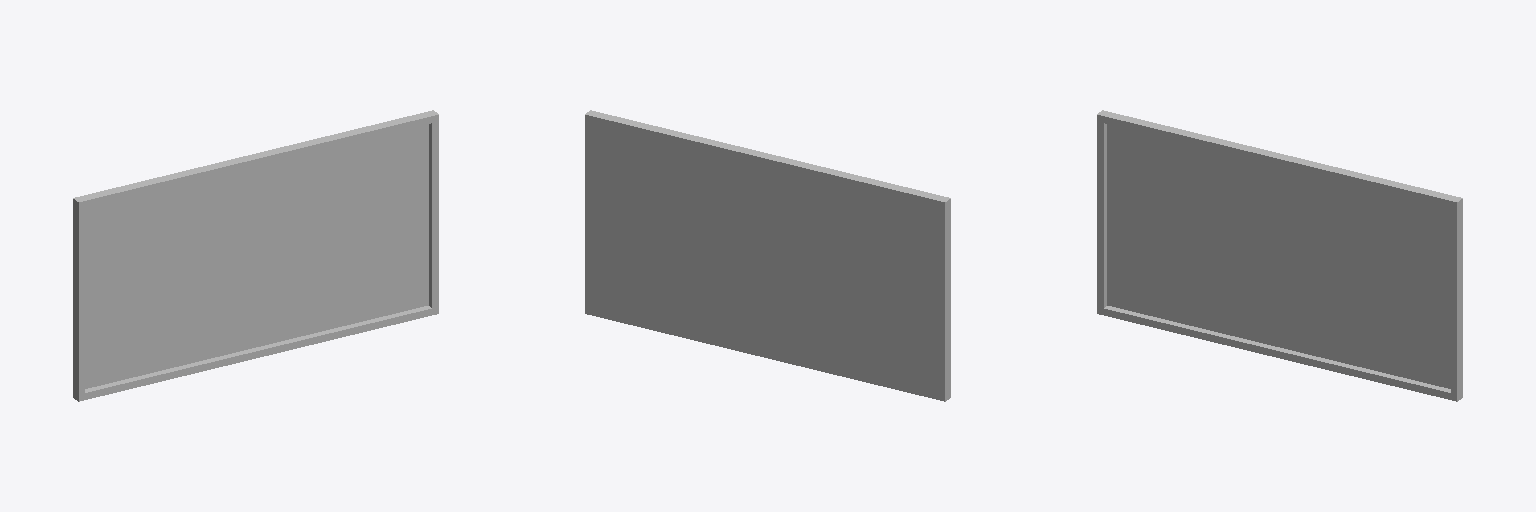
3 renders of one model, left to right at view 1: azimuth 30°, elevation 25°; view 2: azimuth 150°, elevation 25°; view 3: azimuth 330°, elevation 25°, orthographic.
Visible parts, largest first — view 1: TV1; view 2: TV1; view 3: TV1.
Part boxes in pixels (bbox=[...]): TV1: bbox=[73, 110, 438, 401]; TV1: bbox=[585, 110, 950, 401]; TV1: bbox=[1097, 110, 1462, 401].
Bounding box in the file's own units: 106 × 56 × 3.